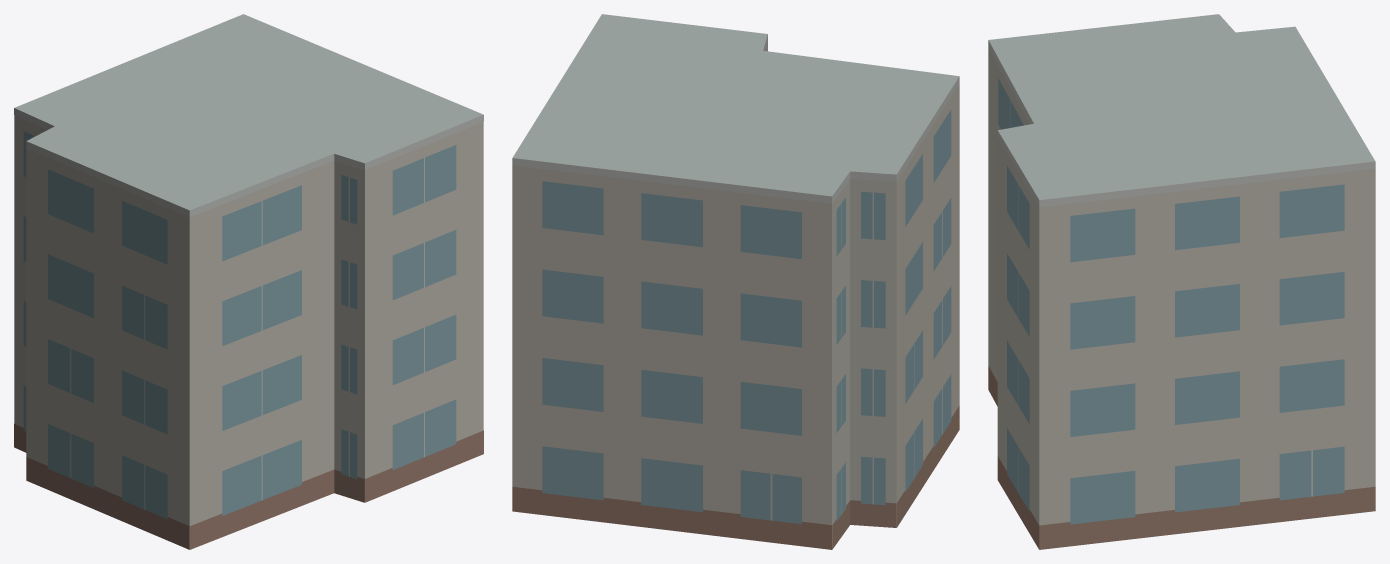
The model's file is survey-upis-33023183.glb.
3 views of the same model, side by side, from view 1: azimuth 30°, elevation 25°; view 2: azimuth 150°, elevation 25°; view 3: azimuth 270°, elevation 25° (orthographic). The views are drawn at different scales.
Visible parts, largest first — view 1: survey-upis-33023183.tmp; view 2: survey-upis-33023183.tmp; view 3: survey-upis-33023183.tmp.
Boxes of the visible parts, x1,y1,x2,y2 form: survey-upis-33023183.tmp: (14,14,483,549); survey-upis-33023183.tmp: (512,14,959,549); survey-upis-33023183.tmp: (988,14,1375,549).
Bounding box in the file's own units: 13.54 × 11.85 × 11.9.
